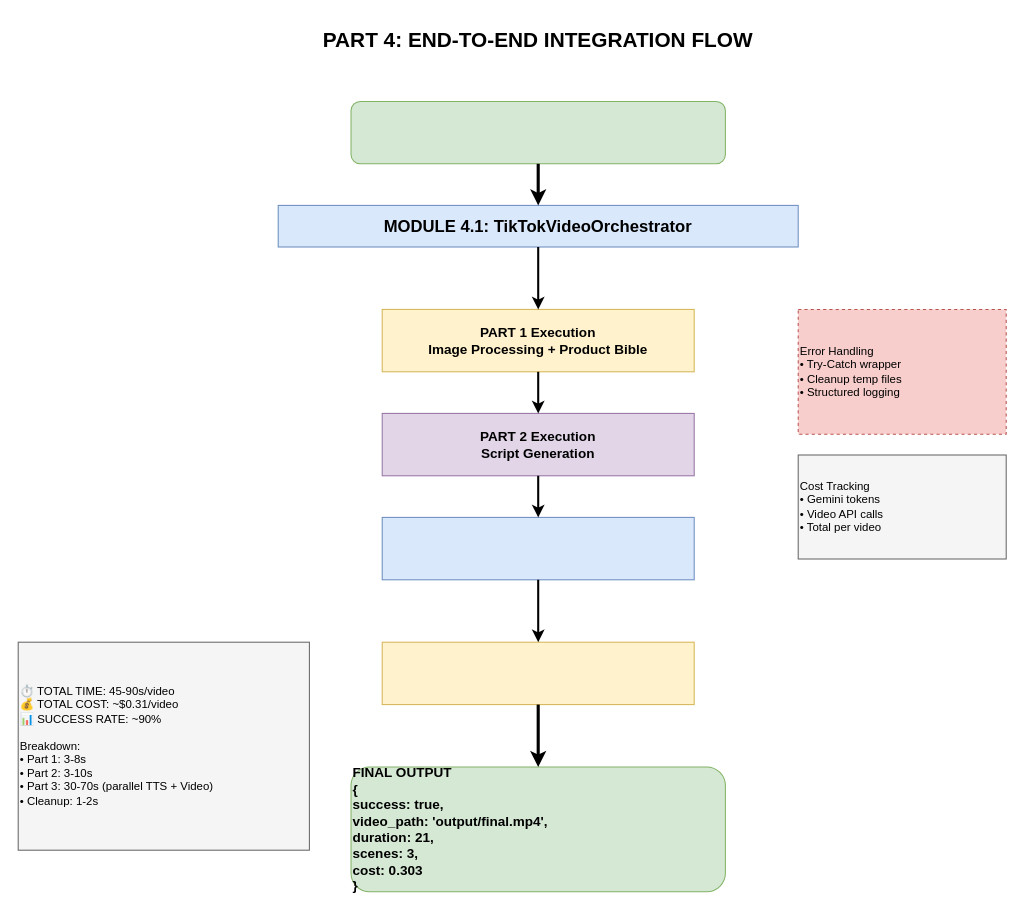
Image size: 1024x912. Some labels were removed from this diagram. The box of each missing label's shape, as (x1, y1, x2, y2) in pixels:
Cleanup Temp Files temp/audio/*, temp/videos/*: (381, 641, 694, 705)
PART 3 Execution Video Generation & Assembly: (381, 516, 694, 580)
START Product Images + Name + Requirement: (350, 100, 725, 164)
